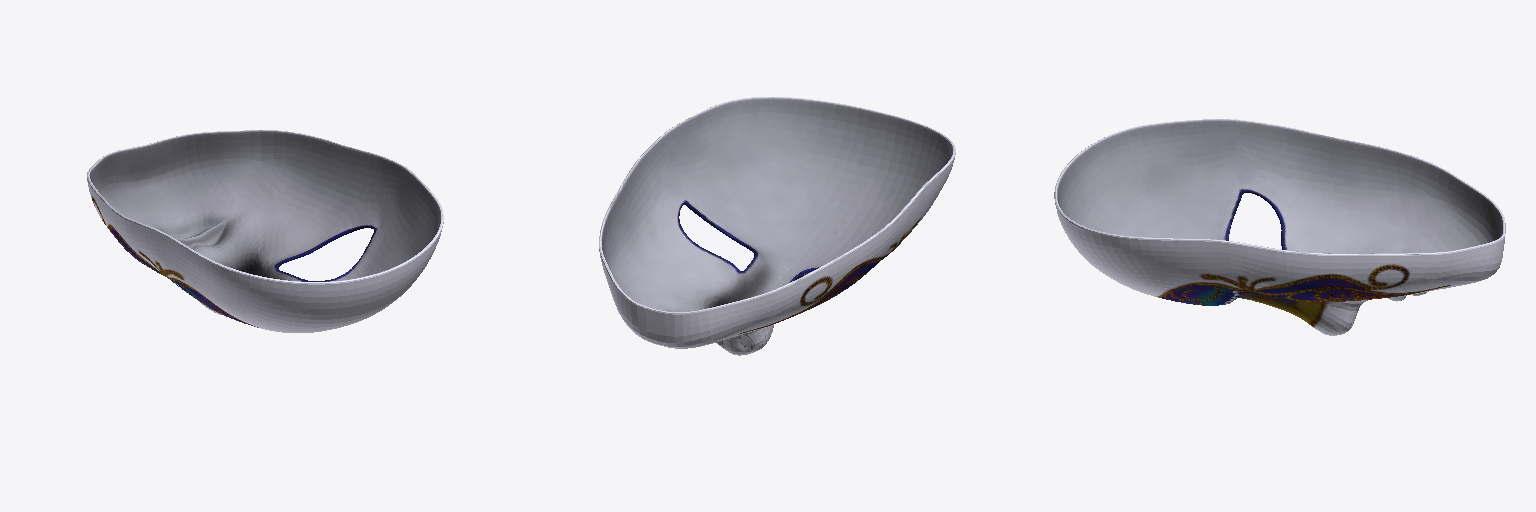
3 views of the same model, side by side, from view 1: azimuth 30°, elevation 25°; view 2: azimuth 150°, elevation 25°; view 3: azimuth 270°, elevation 25° (orthographic).
Visible parts, largest first — view 1: 13549_Volto_Mask_v1; view 2: 13549_Volto_Mask_v1; view 3: 13549_Volto_Mask_v1.
Boxes of the visible parts, x1=… form: 13549_Volto_Mask_v1: x1=87, y1=130, x2=443, y2=332; 13549_Volto_Mask_v1: x1=599, y1=97, x2=955, y2=355; 13549_Volto_Mask_v1: x1=1054, y1=119, x2=1505, y2=335.
Size of the model in its own units: 19.19 by 10.97 by 29.23.
1 materials, 1 textured.